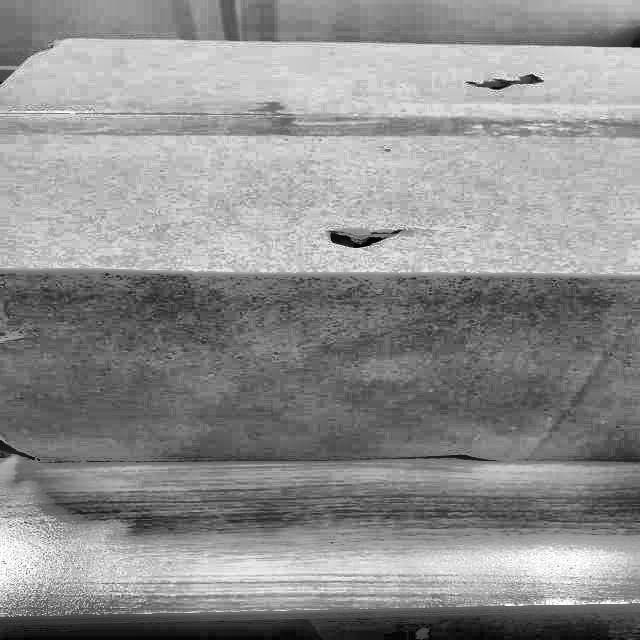box: (0, 32, 639, 470)
hole: (306, 222, 425, 254), (453, 63, 551, 93)
